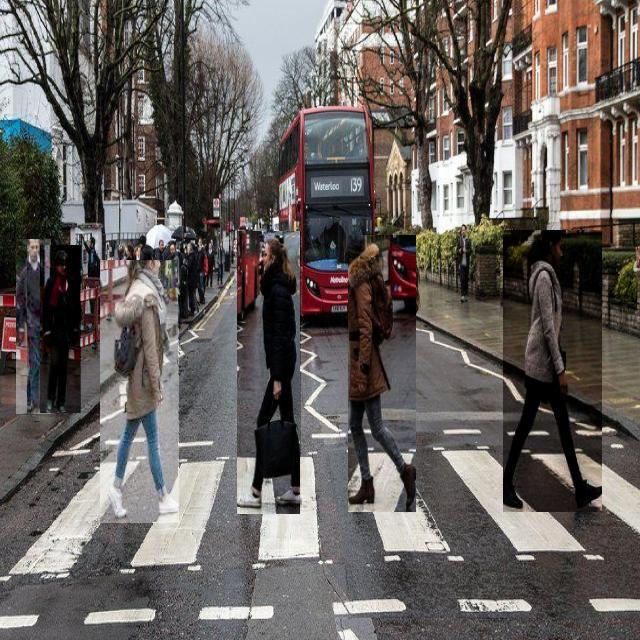without scooter: (503, 230, 602, 512), (101, 261, 180, 524), (348, 235, 416, 512), (238, 231, 302, 514), (41, 245, 82, 413), (16, 239, 51, 414)
